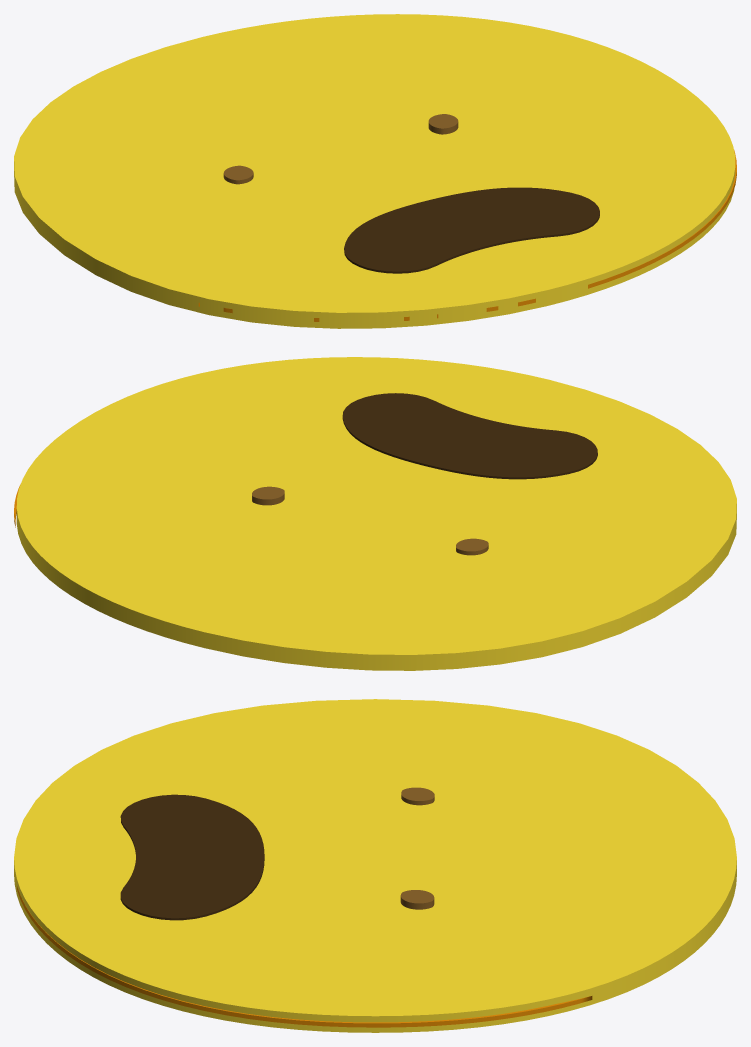
The model's file is emoji_u1f626.glb.
The picture shows the model from 3 angles, top to bottom: view 1: azimuth 30°, elevation 25°; view 2: azimuth 150°, elevation 25°; view 3: azimuth 270°, elevation 25°; orthographic projection. The views are drawn at different scales.
Parts seen in each view (by area): view 1: emoji_u1f626; view 2: emoji_u1f626; view 3: emoji_u1f626.
Boxes of the visible parts, x1,y1,x2,y2 form: emoji_u1f626: (14, 14, 736, 328); emoji_u1f626: (14, 357, 736, 670); emoji_u1f626: (14, 699, 736, 1032).
Bounding box in the file's own units: 0.0327 × 0.0014 × 0.0315.
